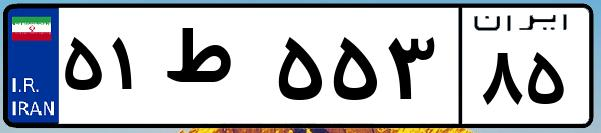1: (110, 28, 158, 98)
3: (385, 28, 445, 110)
5: (270, 28, 330, 110), (330, 28, 385, 110), (57, 26, 110, 100), (525, 38, 570, 115)
8: (475, 38, 525, 113)
ط: (158, 20, 270, 120)
